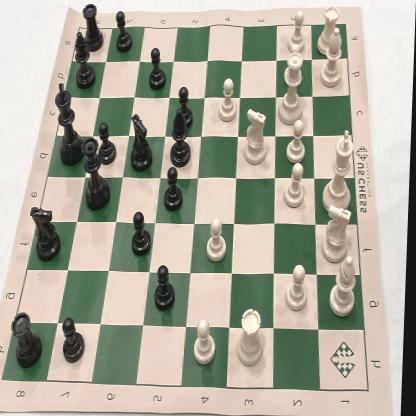black-bishop: (74, 34, 100, 90)
black-king: (53, 77, 87, 169)
black-knight: (29, 204, 67, 258), (132, 106, 160, 170), (170, 114, 198, 172)
black-pawn: (130, 207, 156, 259), (62, 312, 88, 362), (151, 260, 178, 307), (164, 168, 189, 218), (147, 46, 170, 90), (99, 122, 119, 166), (176, 86, 197, 126), (114, 14, 134, 54)
black-queen: (78, 146, 112, 215)
black-rook: (12, 306, 46, 369), (83, 7, 108, 51)
white-bishop: (316, 31, 348, 98), (332, 252, 365, 316)
white-king: (324, 133, 358, 213)
white-knight: (324, 200, 357, 266), (244, 104, 272, 168)
white-pawn: (281, 152, 310, 210), (197, 312, 226, 365), (279, 110, 306, 166), (202, 214, 230, 264), (284, 12, 309, 58), (286, 264, 310, 310), (219, 77, 240, 125), (284, 45, 303, 86)
white-queen: (275, 56, 308, 113)
white-rook: (235, 306, 268, 370), (315, 3, 346, 70)
